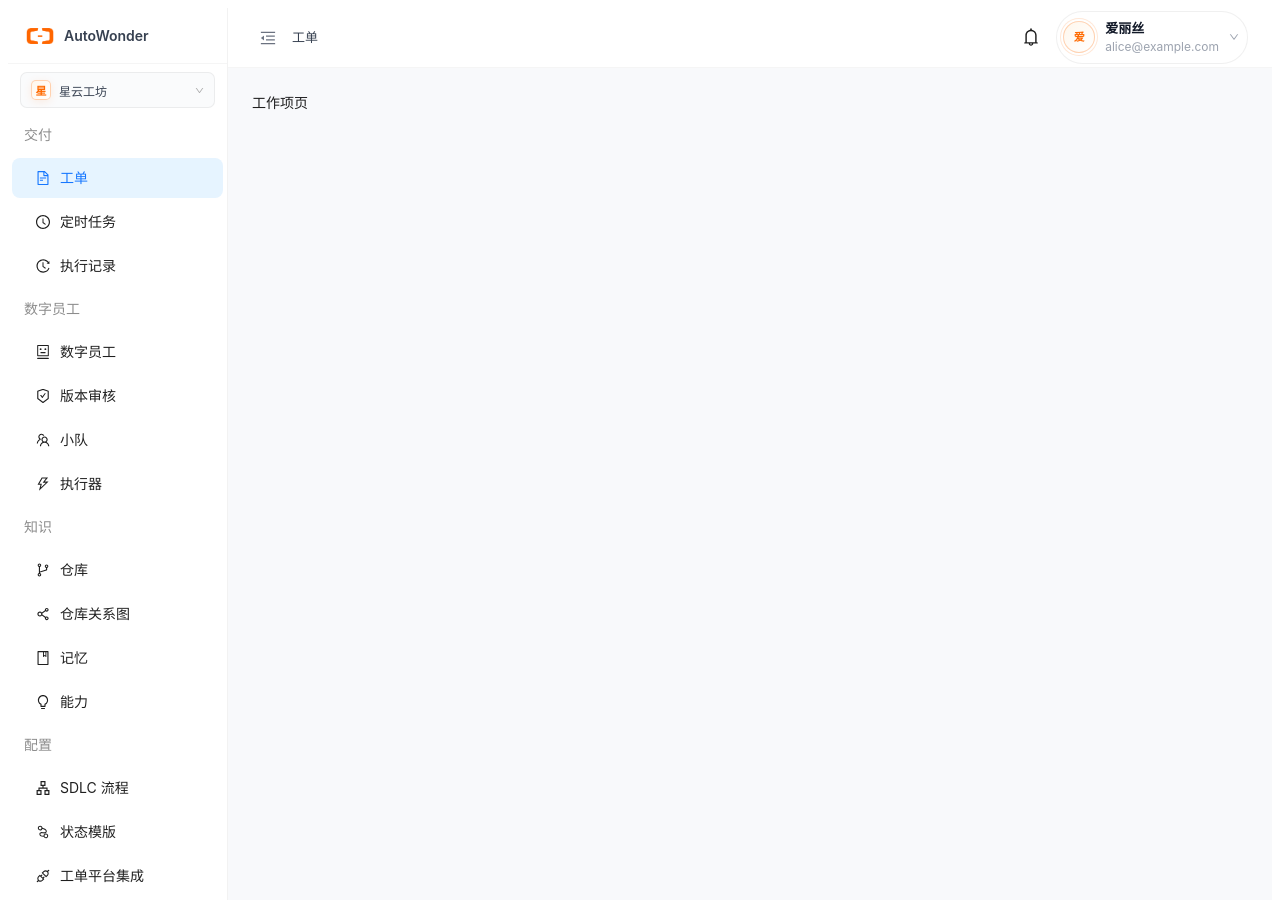
AppLayout › navigates to personal settings from user menu
The width and height of the screenshot is (1280, 900).
Click the text "爱丽丝" at (1125, 28), box [1105, 20, 1144, 36]
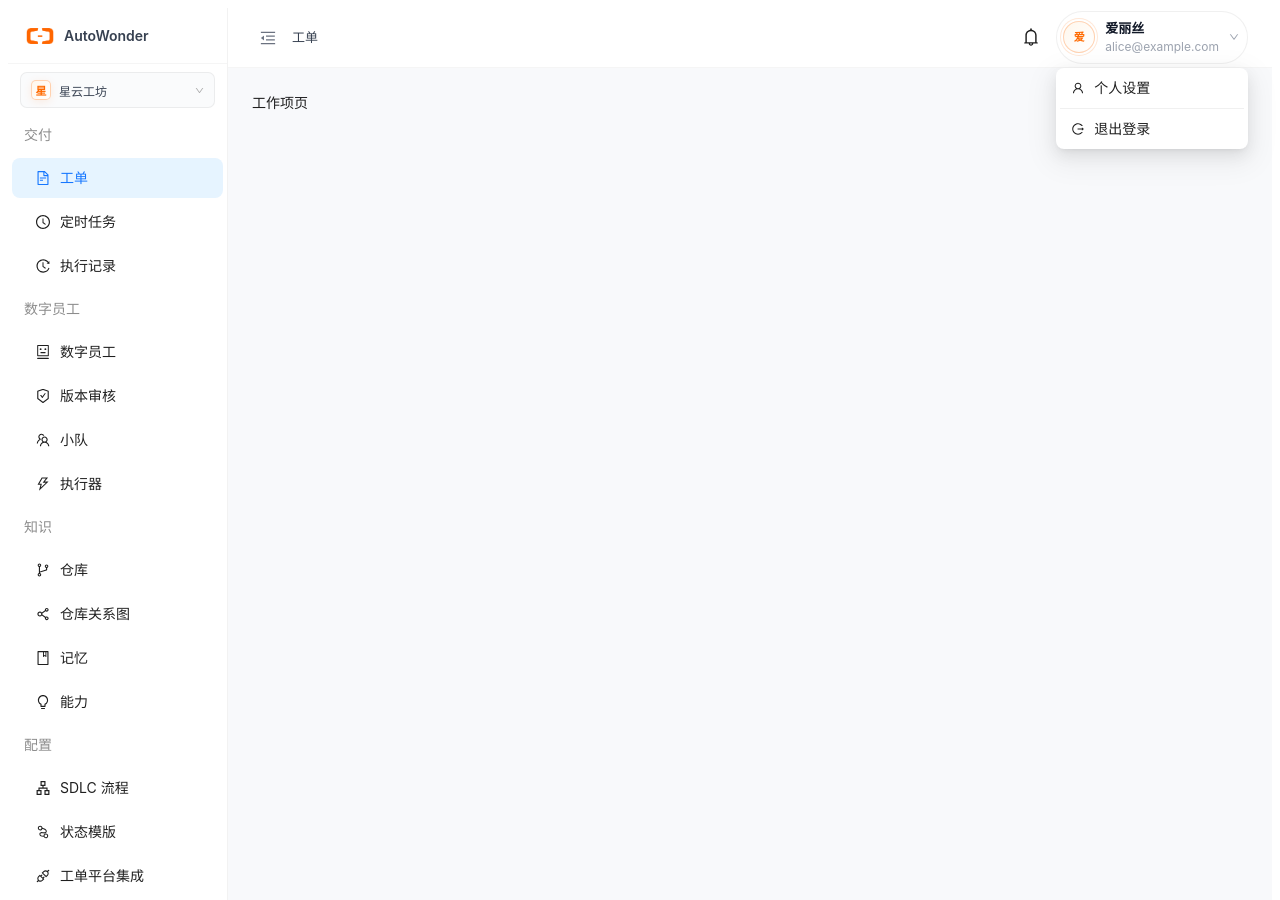
Click the menu item "个人设置" at (1111, 88), box [1072, 79, 1150, 96]
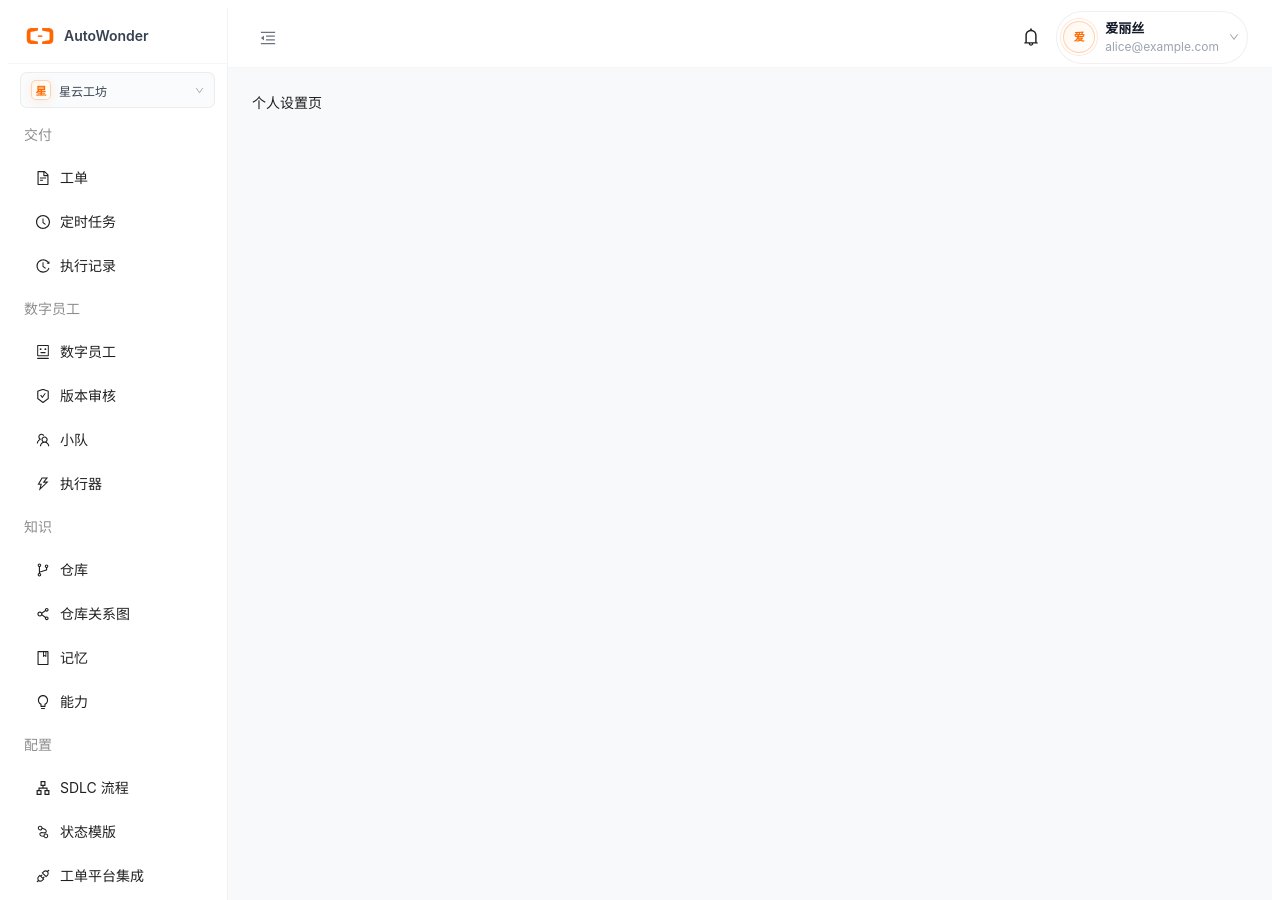
Expected: the text "个人设置页" is shown, [252, 94, 322, 111]
